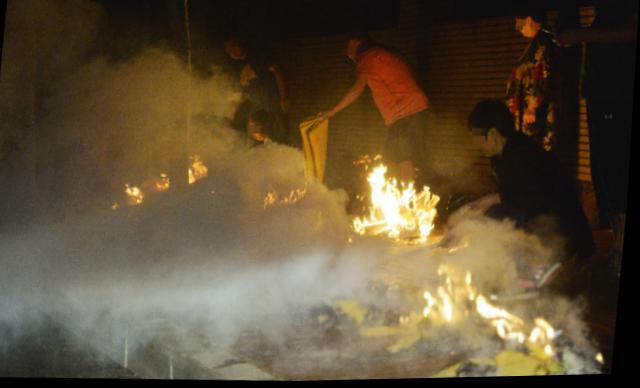fire: (384, 183, 443, 247), (364, 165, 387, 230), (528, 316, 562, 352), (426, 291, 459, 322), (497, 313, 529, 342), (189, 154, 208, 183), (478, 297, 500, 319), (125, 184, 144, 207), (284, 188, 308, 204), (263, 189, 281, 208), (157, 175, 170, 189)
